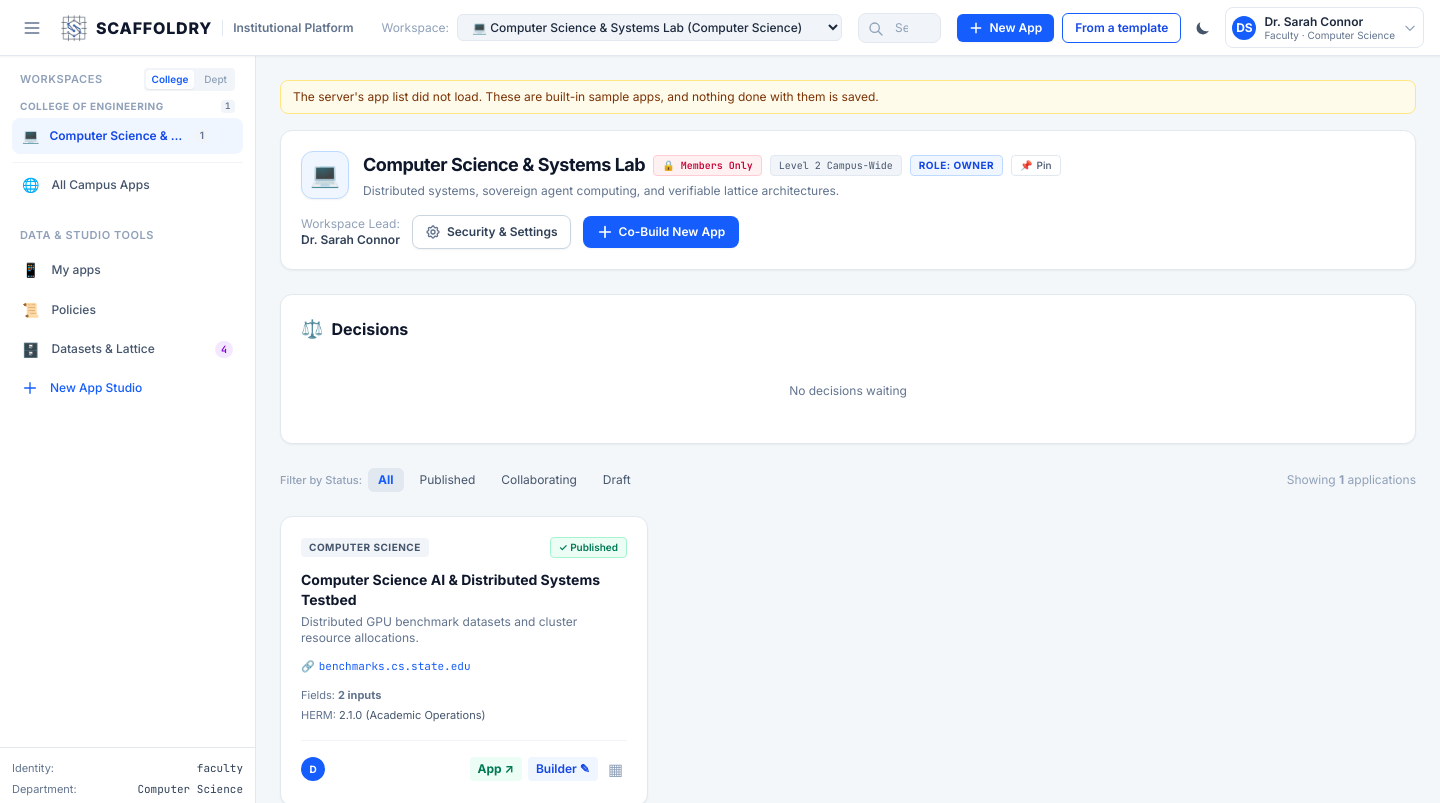
Scenario: New App creates the app on the server, and says only what happened › says the app is waiting for approval when the server answers 202
Click the button "New App": [1006, 28] box [958,14,1054,42]
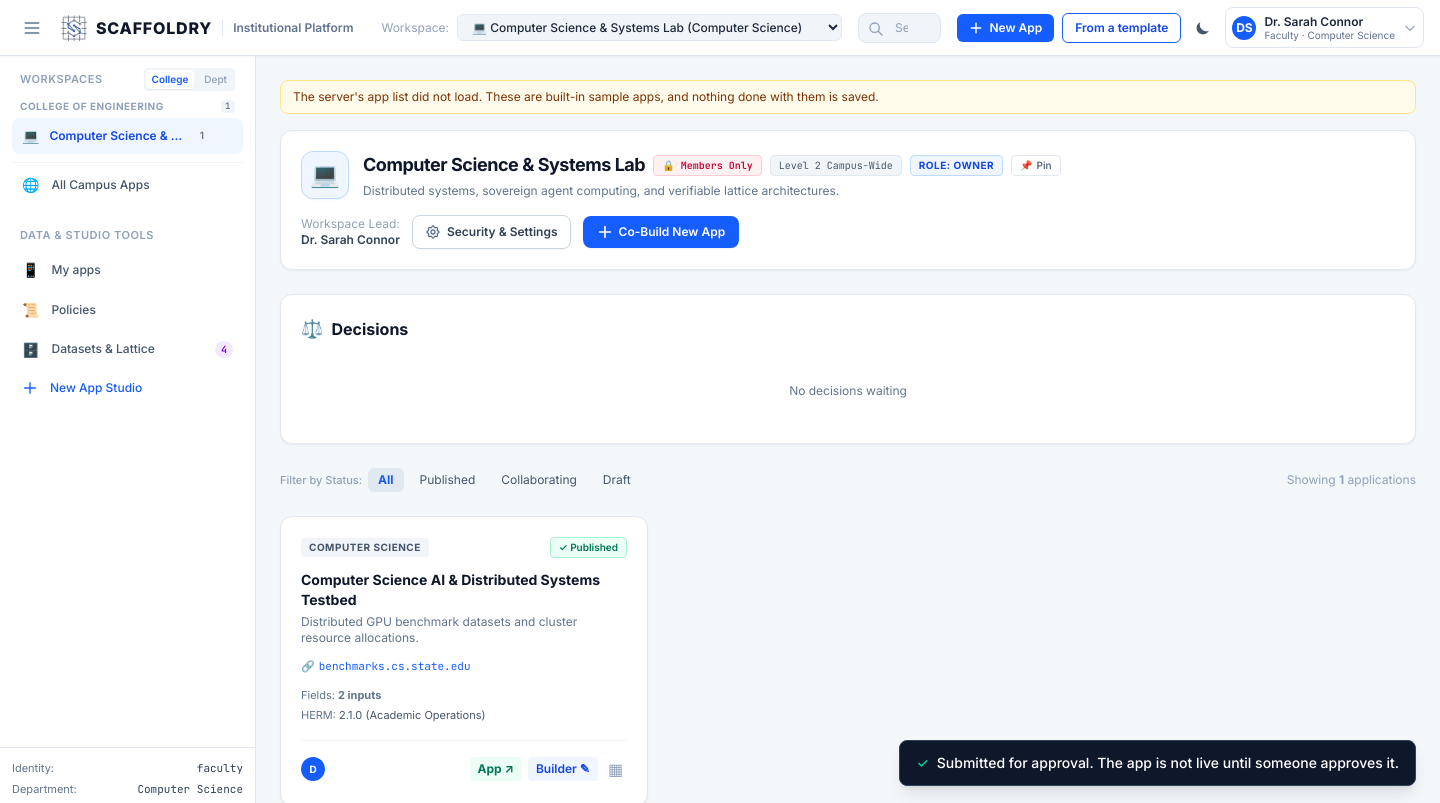
expect the text "Submitted for approval" is shown: met, box [937,754,1399,771]
